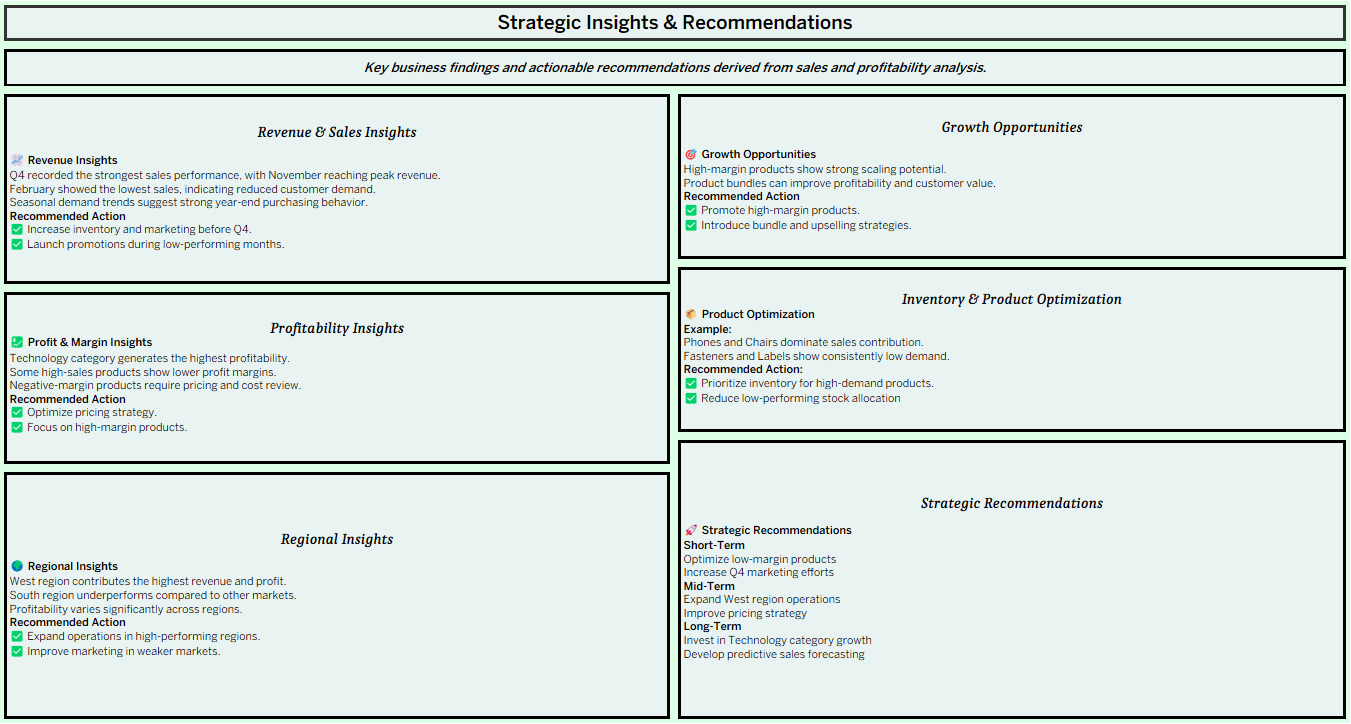

Layout of this report page (visuals, bound fields, positions):
{"tool":"tableau","page":{"name":"Strategic Insights & Recommendations","canvas":[1000,1000],"units":"permille","ordinal":2},"visuals":[{"type":"text","box":[6.9,13.7,986.1,58.9]},{"type":"text","box":[6.9,72.6,986.1,61.6]},{"type":"text","box":[6.9,134.2,492.5,266.3]},{"type":"text","box":[499.4,134.2,493.7,232.5]},{"type":"text","box":[499.4,366.7,493.7,232.5]},{"type":"text","box":[6.9,400.5,492.5,242.9]},{"type":"text","box":[499.4,599.1,493.7,387.2]},{"type":"text","box":[6.9,643.4,492.5,342.9]}]}

Visuals, with their boxes on the dashboard's canvas, which has no fixed pixel size, in thousandths of its width and height (x1, y1, x2, y2). These are canvas units, not pixel positions in the 1351x724 screenshot, which may show the page scaled, cropped or inside an application window:
text: x1=7, y1=14, x2=993, y2=73
text: x1=7, y1=73, x2=993, y2=134
text: x1=7, y1=134, x2=499, y2=400
text: x1=499, y1=134, x2=993, y2=367
text: x1=499, y1=367, x2=993, y2=599
text: x1=7, y1=400, x2=499, y2=643
text: x1=499, y1=599, x2=993, y2=986
text: x1=7, y1=643, x2=499, y2=986
